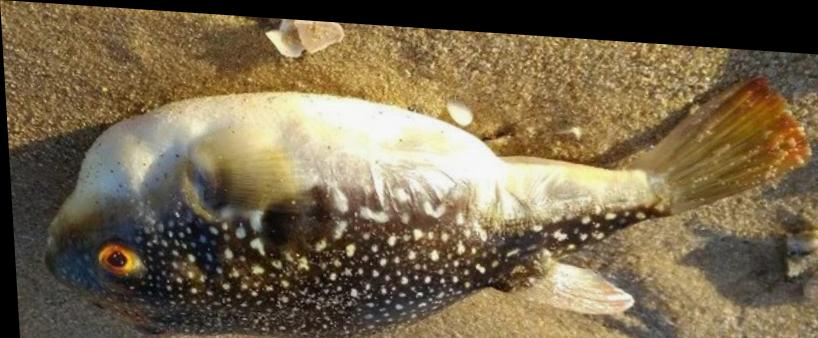fish: (42, 72, 808, 338)
